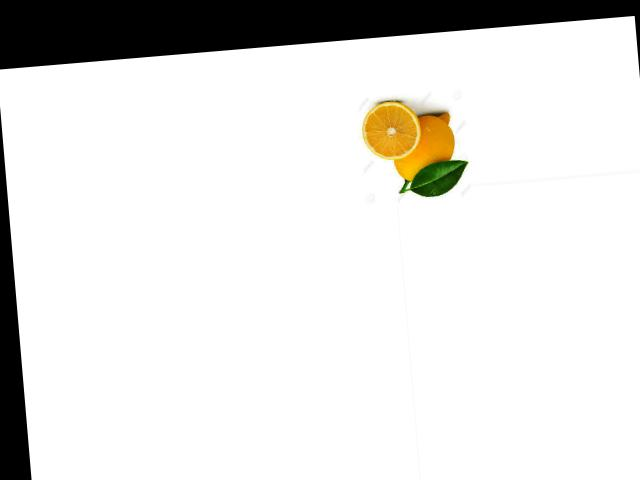lemon: (386, 108, 461, 193)
